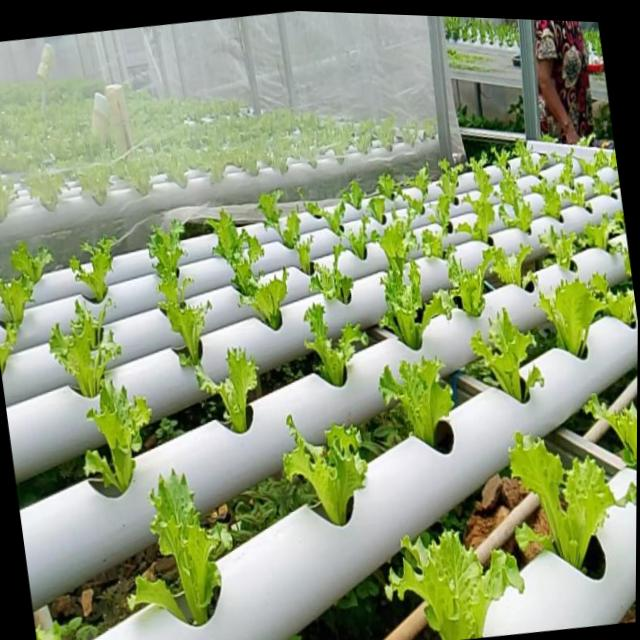Baby: (512, 432, 637, 566), (388, 529, 526, 640), (153, 470, 234, 626), (151, 223, 213, 375), (286, 416, 370, 527), (89, 382, 155, 495), (382, 359, 456, 455), (54, 302, 125, 399), (473, 309, 541, 404), (537, 275, 607, 357), (198, 349, 261, 435), (306, 305, 371, 388), (209, 212, 266, 297), (443, 247, 506, 320), (496, 152, 536, 234), (312, 246, 365, 306), (374, 214, 421, 277), (243, 271, 291, 332), (74, 239, 119, 304), (0, 273, 39, 347), (536, 178, 564, 220), (518, 141, 551, 176), (404, 188, 428, 220), (424, 230, 446, 259), (562, 151, 578, 189)
